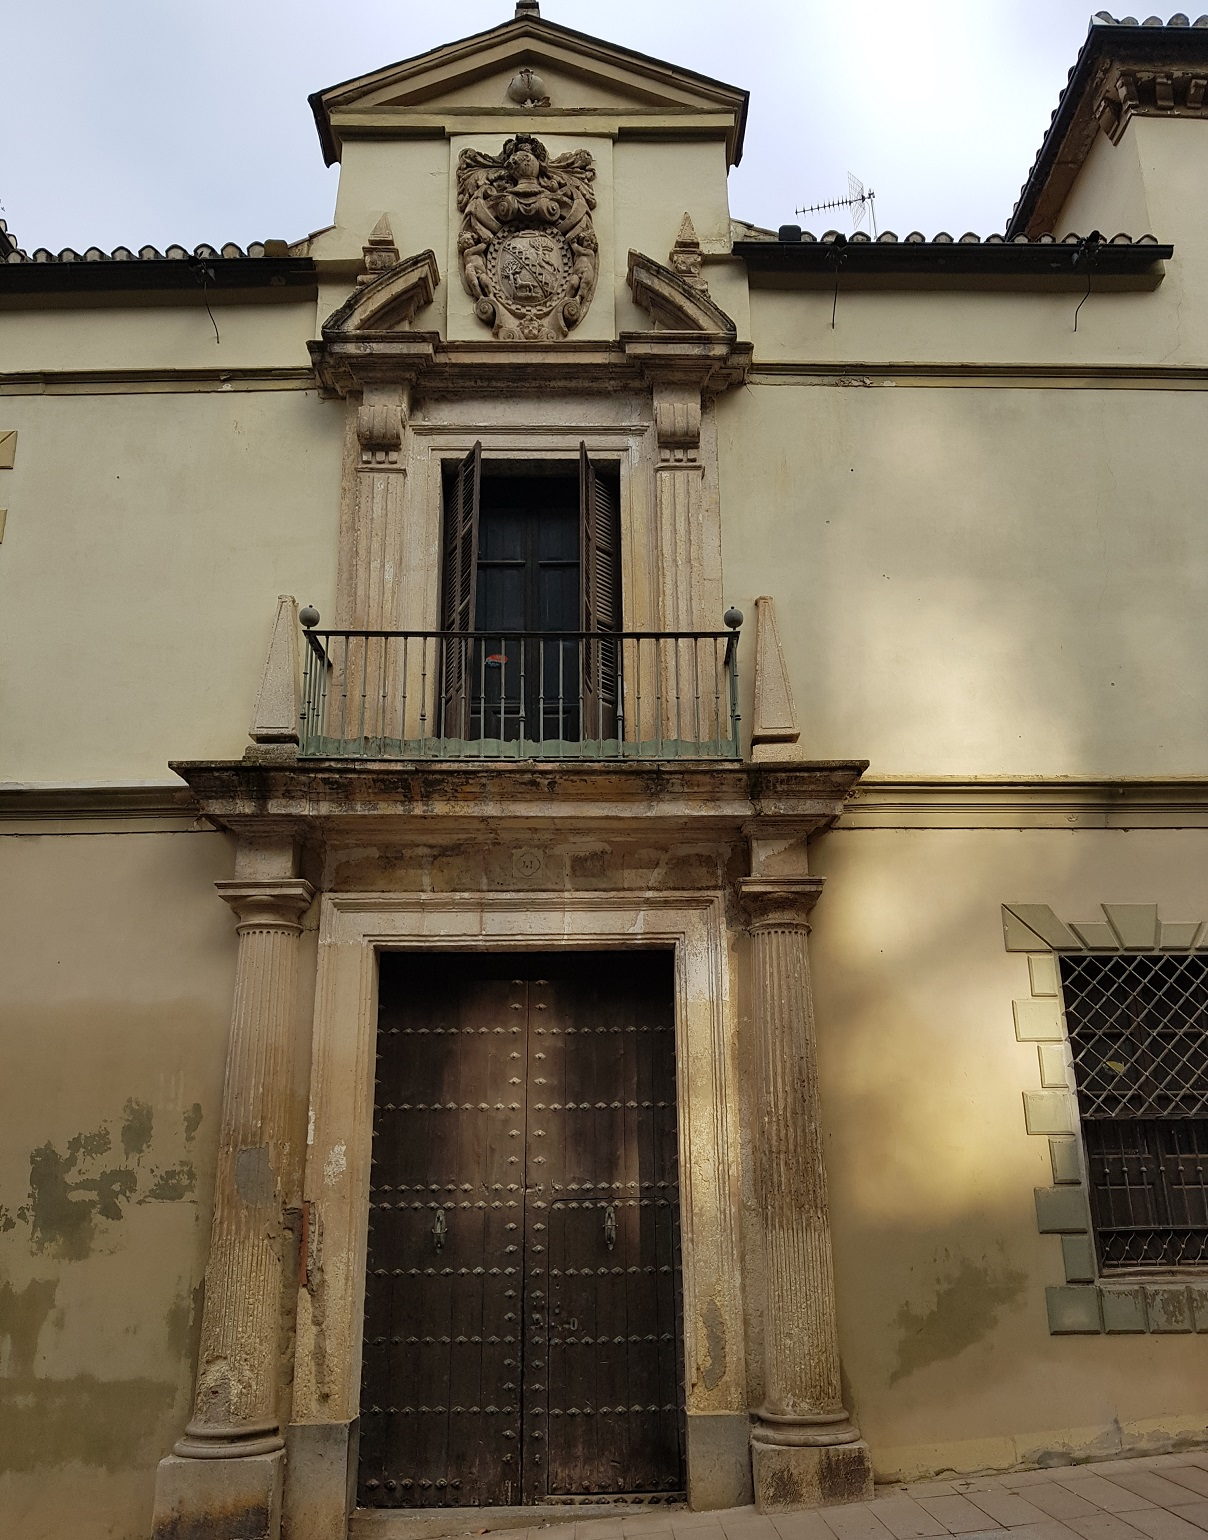fronton: (303, 7, 757, 141)
vano-adintelado: (311, 892, 734, 1520), (414, 431, 653, 752), (306, 241, 753, 367)
